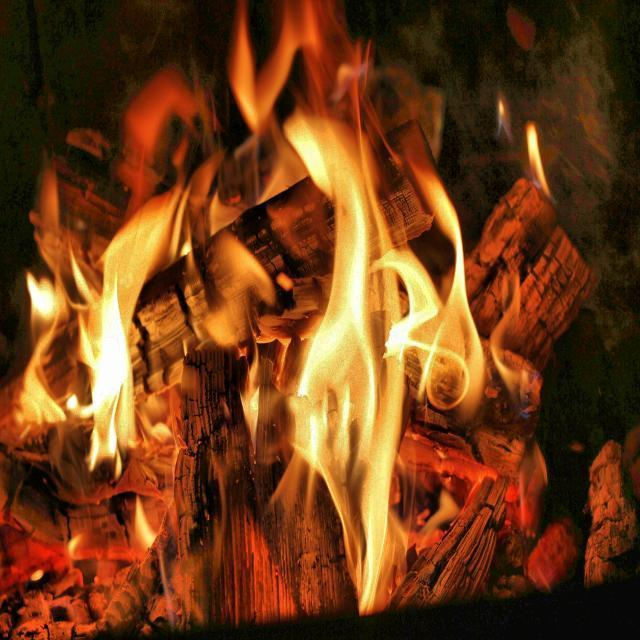Fire: (18, 0, 546, 618)
